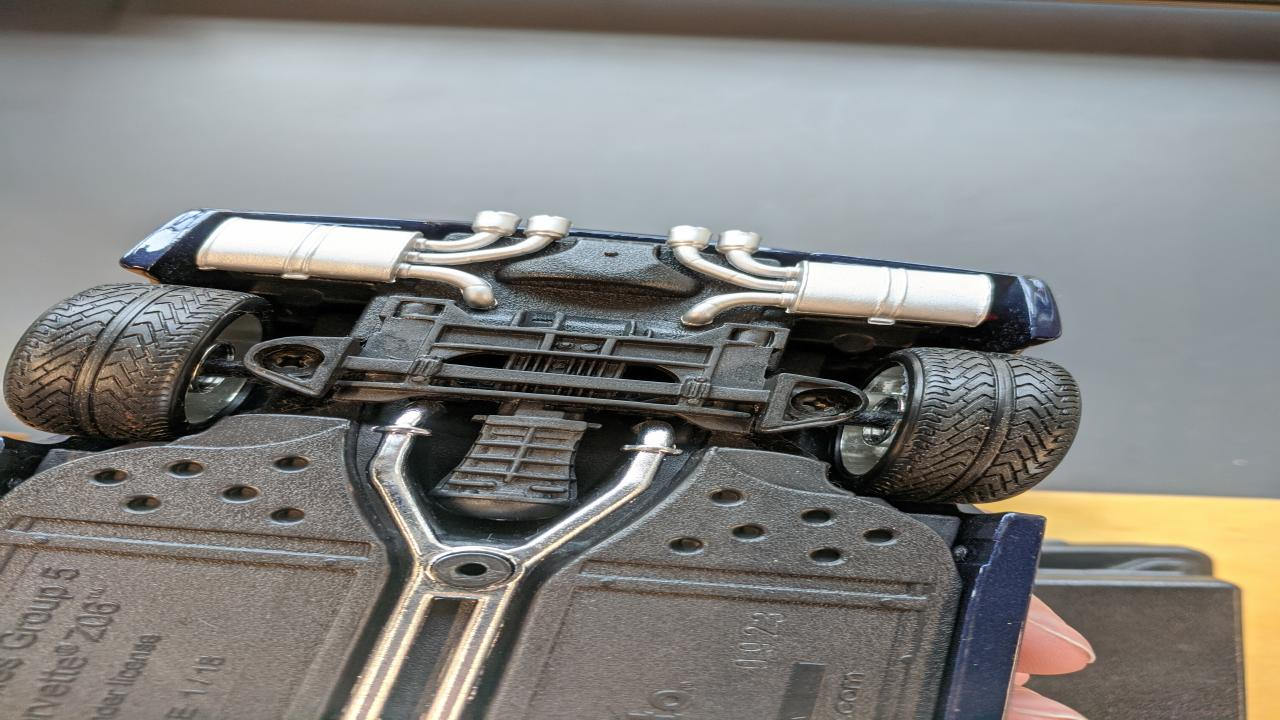CRS: (256, 344, 329, 378), (794, 390, 856, 418)
